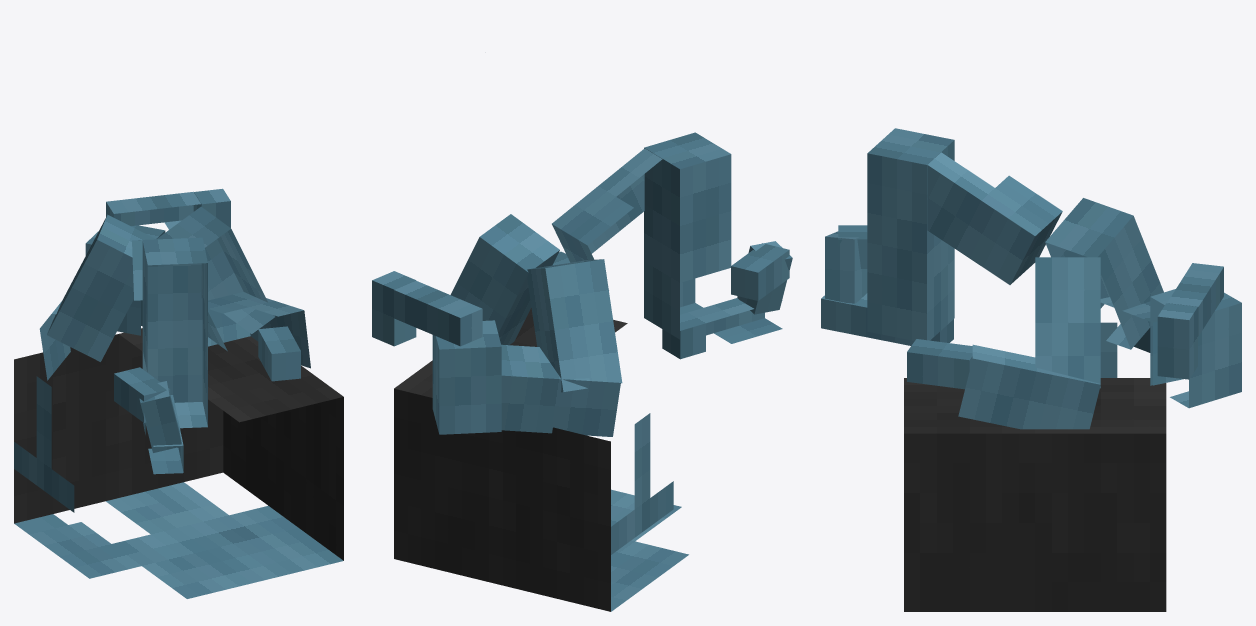
File: nyarlathotepstatue.obj
3 renders of one model, left to right at view 1: azimuth 30°, elevation 25°; view 2: azimuth 150°, elevation 25°; view 3: azimuth 270°, elevation 25°, orthographic. The views are drawn at different scales.
Parts seen in each view (by area): view 1: base, tentacle4, tentacle2, tentacle8, tentacle9, tentacle12, tentacle11, tentacle6, tentacle7, tentacle3, tentacle5, tentacle10 (+2 smaller); view 2: base, tentacle4, tentacle2, tentacle3, tentacle8, tentacle10, tentacle1, tentacle12, tentacle5, tentacle7, tentacle13, tentacle6; view 3: base, tentacle4, tentacle1, tentacle9, tentacle2, tentacle8, tentacle10, tentacle13, tentacle11, tentacle6, tentacle12, tentacle5 (+2 smaller).
Boxes of the visible parts, left/top/right/bottom form: base: left=14, top=328, right=343, bottom=598; tentacle4: left=142, top=237, right=207, bottom=428; tentacle2: left=47, top=214, right=155, bottom=361; tentacle8: left=156, top=206, right=275, bottom=351; tentacle9: left=208, top=292, right=310, bottom=368; tentacle12: left=106, top=191, right=201, bottom=229; tentacle11: left=258, top=326, right=300, bottom=381; tentacle6: left=139, top=381, right=181, bottom=452; tentacle7: left=114, top=367, right=170, bottom=422; tentacle3: left=39, top=300, right=142, bottom=380; tentacle5: left=143, top=395, right=183, bottom=474; tentacle10: left=85, top=225, right=165, bottom=335; base: left=394, top=308, right=688, bottom=611; tentacle4: left=644, top=132, right=731, bottom=339; tentacle2: left=527, top=259, right=622, bottom=392; tentacle3: left=501, top=344, right=620, bottom=436; tentacle8: left=450, top=214, right=559, bottom=345; tentacle10: left=432, top=320, right=501, bottom=434; tentacle1: left=552, top=148, right=662, bottom=262; tentacle12: left=394, top=280, right=482, bottom=346; tentacle5: left=662, top=298, right=782, bottom=359; tentacle7: left=731, top=243, right=789, bottom=300; tentacle13: left=372, top=271, right=416, bottom=346; tentacle6: left=737, top=241, right=792, bottom=314; base: left=904, top=322, right=1166, bottom=611; tentacle4: left=867, top=128, right=954, bottom=340; tentacle1: left=927, top=152, right=1062, bottom=284; tentacle9: left=958, top=344, right=1100, bottom=429; tentacle2: left=1045, top=198, right=1163, bottom=349; tentacle8: left=1035, top=257, right=1100, bottom=388; tentacle10: left=1150, top=289, right=1241, bottom=408; tentacle13: left=1157, top=303, right=1197, bottom=379; tentacle11: left=907, top=339, right=972, bottom=389; tentacle6: left=825, top=231, right=867, bottom=303; tentacle12: left=1167, top=263, right=1223, bottom=336; tentacle5: left=821, top=293, right=953, bottom=345.
Size of the model in its own units: 0.5832 by 1.15 by 0.8016.
